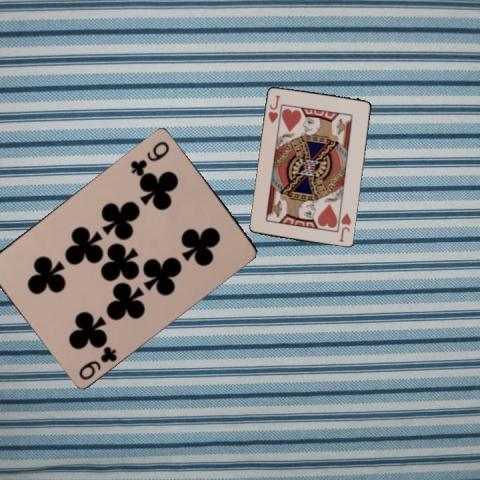9c: (128, 138, 172, 176), (75, 343, 119, 381)
Jh: (265, 92, 282, 125), (336, 210, 352, 243)
